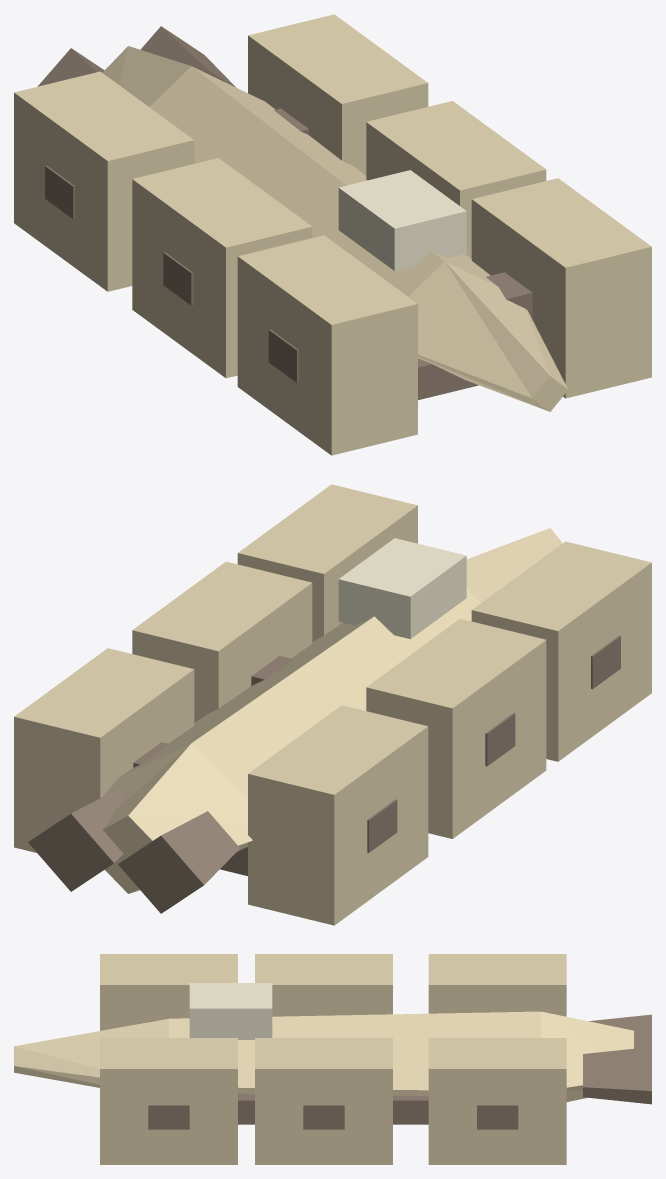
3 renders of one model, top to bottom at view 1: azimuth 30°, elevation 25°; view 2: azimuth 150°, elevation 25°; view 3: azimuth 270°, elevation 25°, orthographic. The views are drawn at different scales.
Size of the model in its own units: 4.07 by 1.82 by 9.45.
